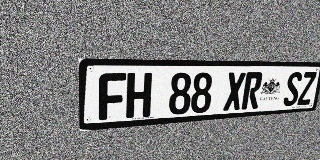8: (168, 73, 193, 115), (190, 72, 214, 113)
F: (99, 73, 126, 120)
H: (126, 73, 152, 118)
R: (241, 72, 263, 110)
S: (282, 72, 303, 106)
X: (223, 72, 246, 111)
Z: (297, 72, 317, 105)
